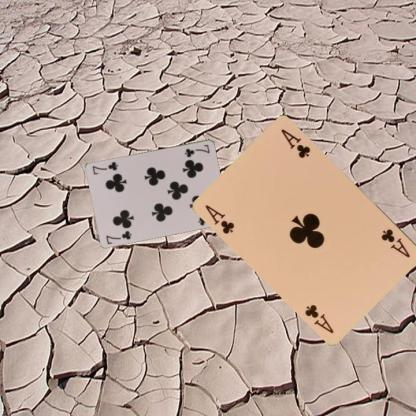7c: (103, 228, 133, 246), (182, 142, 211, 158)
Ac: (202, 201, 236, 235), (378, 226, 412, 259)
